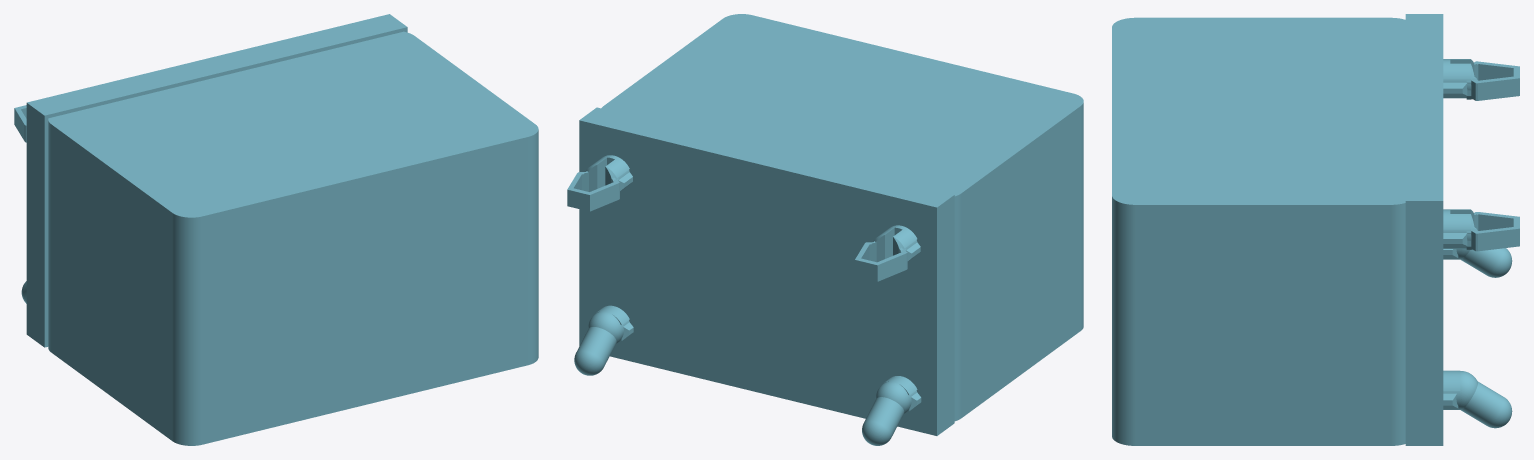
Rendered from part-p07__current-mounts-flat-top-v2__fit-pf02c9-hoop5__print.glb.
3 views of the same model, side by side, from view 1: azimuth 30°, elevation 25°; view 2: azimuth 150°, elevation 25°; view 3: azimuth 270°, elevation 25° (orthographic). The views are drawn at different scales.
Visible parts, largest first — view 1: print.stl; view 2: print.stl; view 3: print.stl.
Boxes of the visible parts, bbox=[...] form: print.stl: bbox=[14, 14, 538, 445]; print.stl: bbox=[567, 14, 1083, 445]; print.stl: bbox=[1112, 14, 1519, 445].
Bounding box in the file's own units: 0.0632 × 0.0386 × 0.0582.
